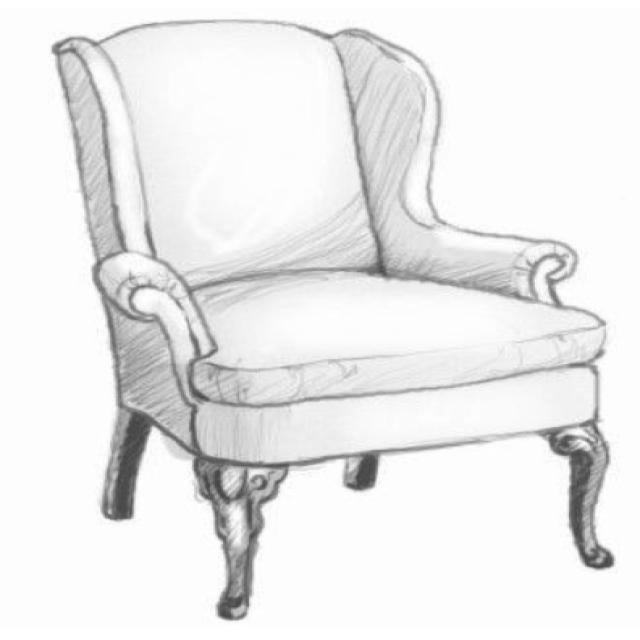Backrest: (93, 17, 385, 290)
Leg_Structure: (90, 398, 623, 631)
Seat: (187, 267, 613, 467)
Wing_Flange: (46, 33, 157, 263), (329, 26, 444, 231)
sofa_armrest: (90, 250, 221, 446), (375, 214, 583, 307)
